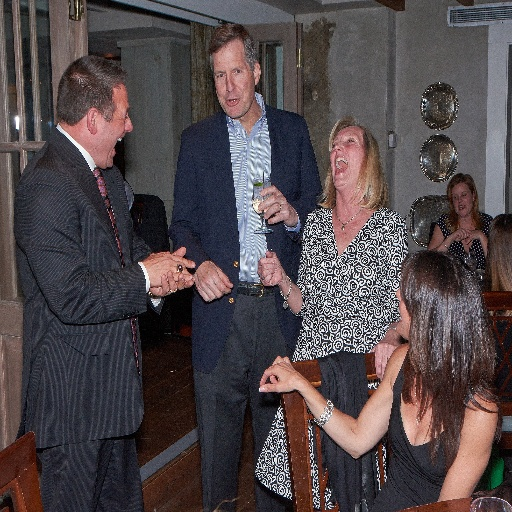hand: (147, 246, 196, 297), (256, 183, 298, 229), (192, 260, 235, 304), (257, 354, 301, 395), (369, 336, 401, 382), (255, 251, 284, 287), (464, 230, 481, 247), (451, 228, 467, 244)
